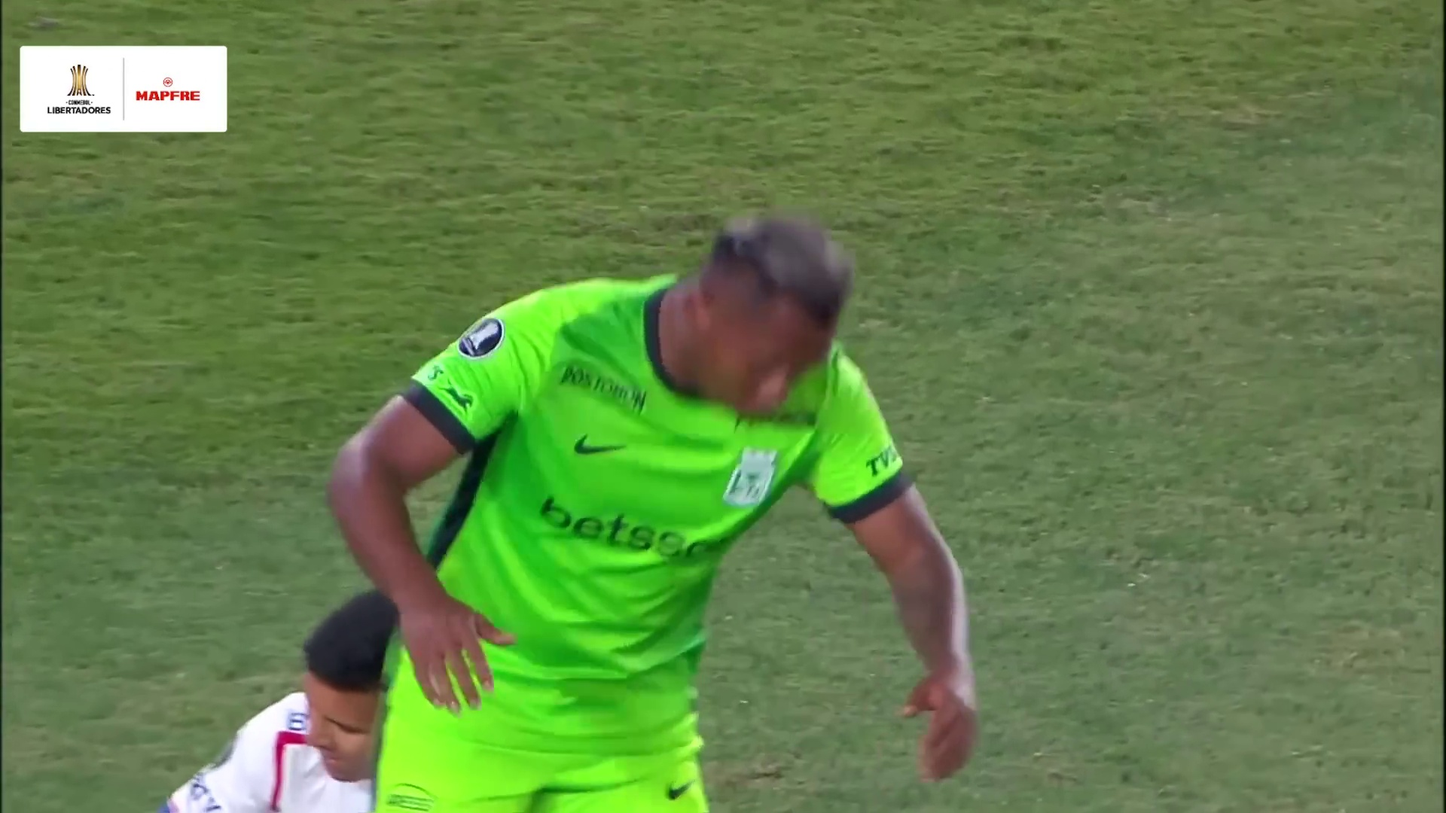player: (316, 209, 986, 813), (130, 598, 432, 808)
